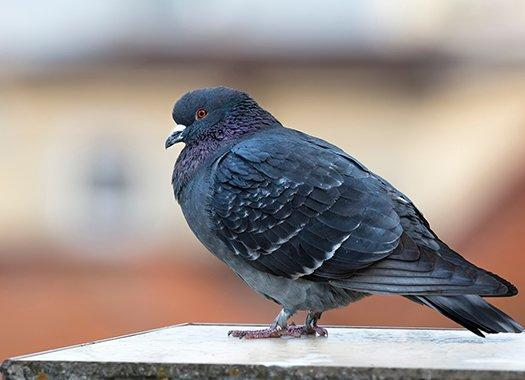Flying Rat: (156, 86, 509, 348)
